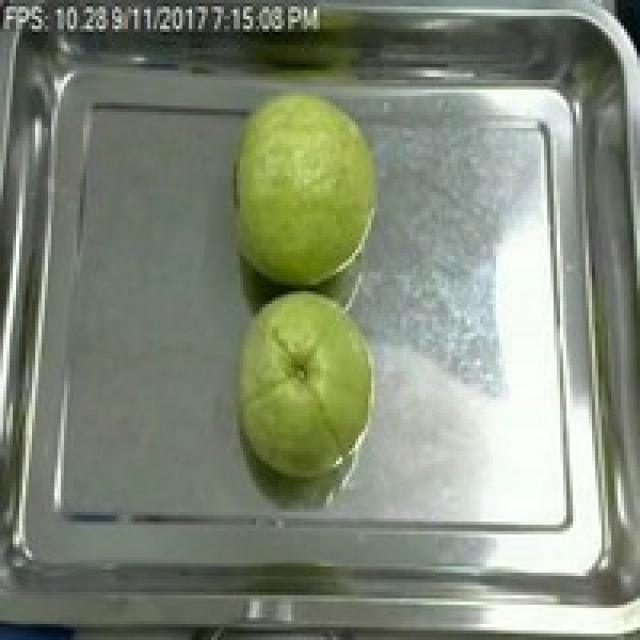Fruit: (218, 80, 387, 294), (221, 278, 384, 486)
